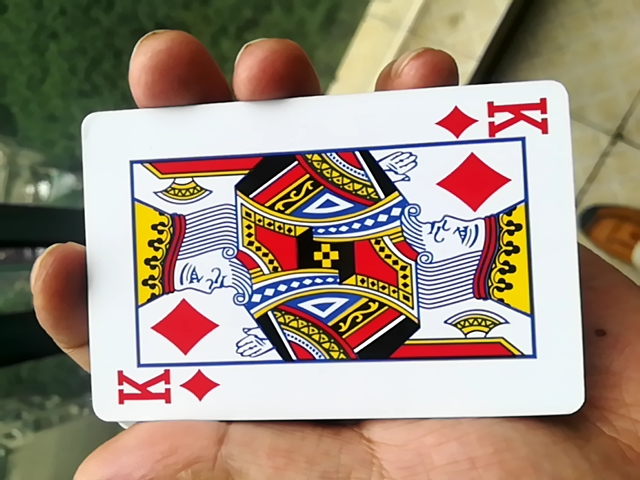fk k: (66, 87, 583, 426)
